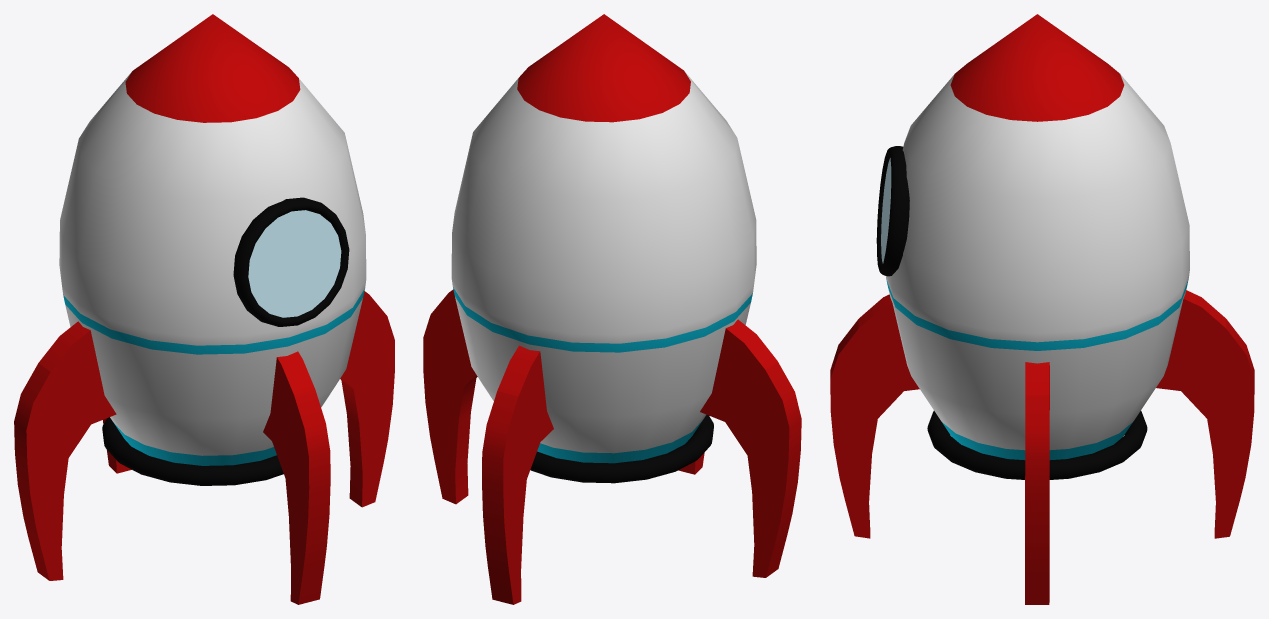
Rendered from spaceExit.fbx.
The picture shows the model from 3 angles, left to right: view 1: azimuth 30°, elevation 25°; view 2: azimuth 150°, elevation 25°; view 3: azimuth 270°, elevation 25°; orthographic projection.
Visible parts, largest first — view 1: spaceshipBody, feet2, feet4, feet1, glass, windowRing, outerRing; view 2: spaceshipBody, feet2, feet3, feet1, outerRing; view 3: spaceshipBody, feet3, feet4, feet1, outerRing, windowRing, glass.
Part boxes in pixels (left/top/right/bottom): spaceshipBody: left=59, top=14, right=366, bottom=465; feet2: left=14, top=321, right=116, bottom=580; feet4: left=263, top=351, right=330, bottom=604; feet1: left=340, top=291, right=394, bottom=507; glass: left=248, top=210, right=341, bottom=317; windowRing: left=233, top=197, right=349, bottom=326; outerRing: left=102, top=417, right=283, bottom=485; spaceshipBody: left=451, top=14, right=756, bottom=463; feet2: left=700, top=319, right=801, bottom=577; feet3: left=482, top=345, right=553, bottom=604; feet1: left=423, top=289, right=477, bottom=504; outerRing: left=530, top=414, right=713, bottom=483; spaceshipBody: left=886, top=14, right=1189, bottom=460; feet3: left=1156, top=290, right=1254, bottom=538; feet4: left=830, top=294, right=919, bottom=538; feet1: left=1025, top=362, right=1049, bottom=604; outerRing: left=927, top=411, right=1147, bottom=479; windowRing: left=876, top=146, right=909, bottom=276; glass: left=881, top=158, right=891, bottom=263.
Size of the model in its own units: 9.89 by 13.44 by 9.98.
